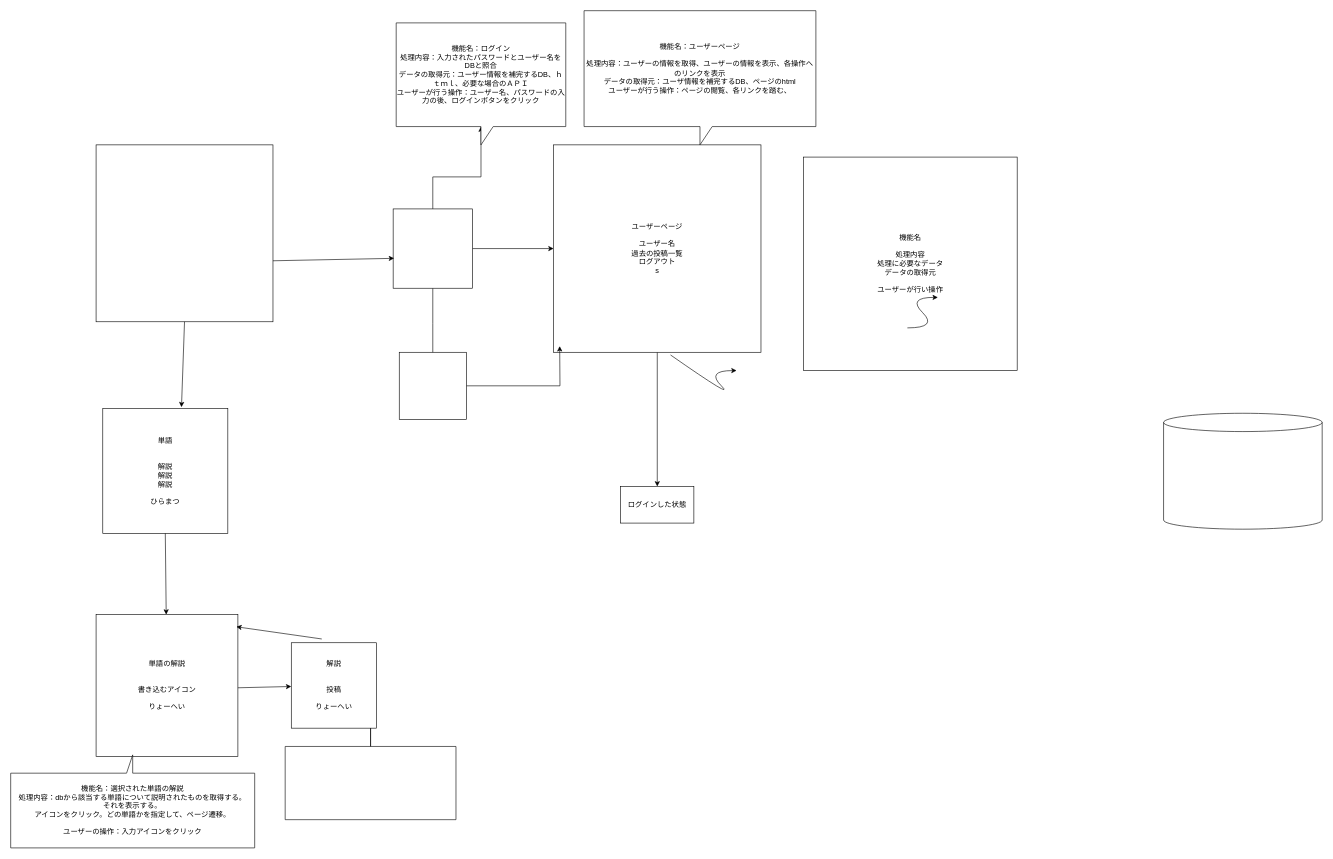
Image size: 1333x859. Some labels were removed from this diagram. Each missing label, with the box of its shape:
ホーム画面 検索窓 単語がずらり ひらまつ: (95, 144, 273, 322)
ログイン パスワード ユーザー名 ひろみ: (393, 208, 472, 288)
機能名：単語解説投稿 処理内容：入力内容を単語と紐付けてDBに登録。登録したら、解説のページに遷移。 ユーザーの操作：: (285, 728, 456, 820)
登録画面 名前 パスワード e-mail twitter,google API: (399, 352, 466, 419)
